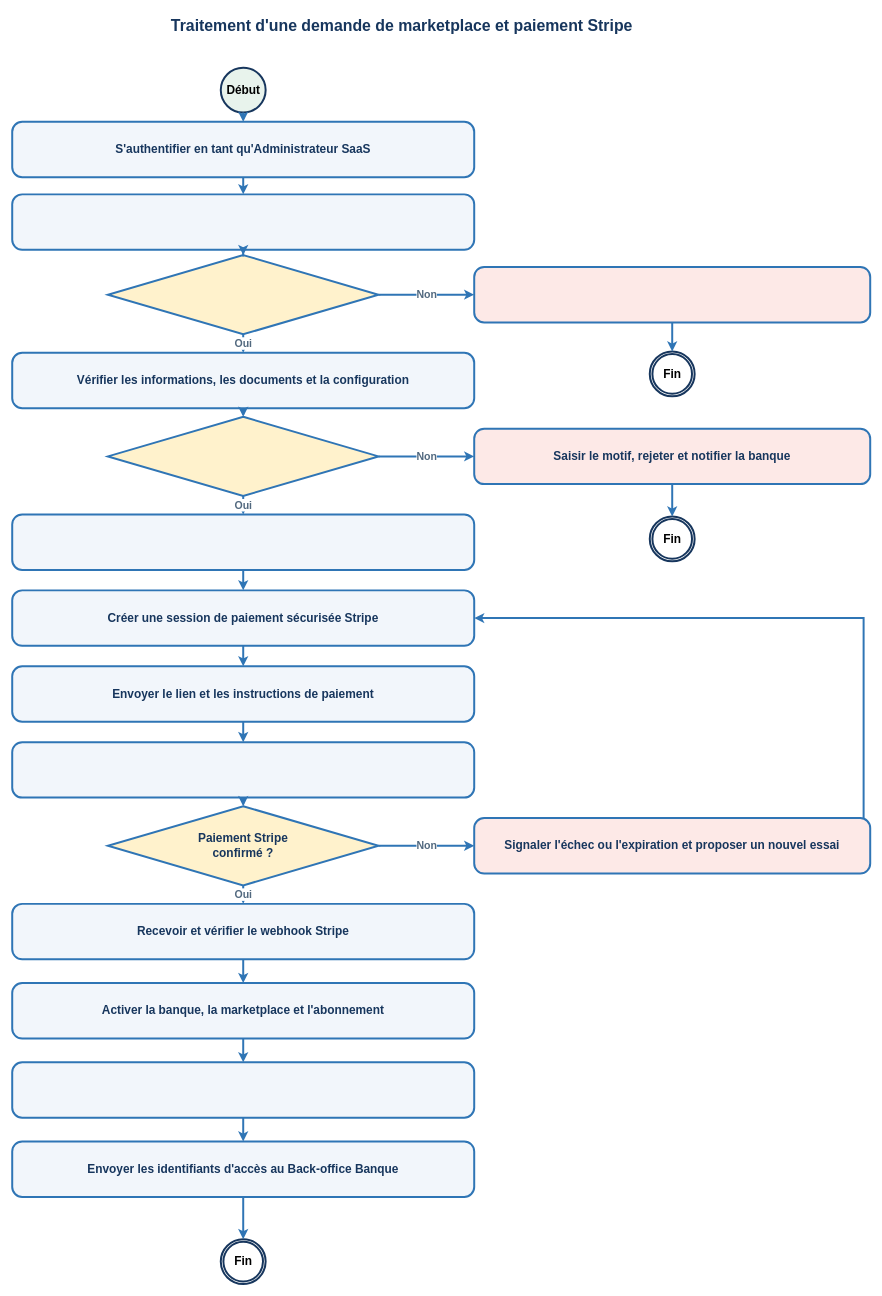
This 882x1296 diagram has some shape labels left out. Here are the shapes that lost their labels. From the top down, the centre of each, then its label:
the point at 243,221: Consulter et sélectionner une demande
the point at 243,294: Demande en attente ?
the point at 672,294: Signaler que la demande ne peut plus être traitée
the point at 243,456: Demande admissible ?
the point at 243,542: Approuver la demande
the point at 243,769: Le futur Administrateur Banque effectue le paiement sur Stripe
the point at 243,1089: Activer le compte Administrateur Banque
